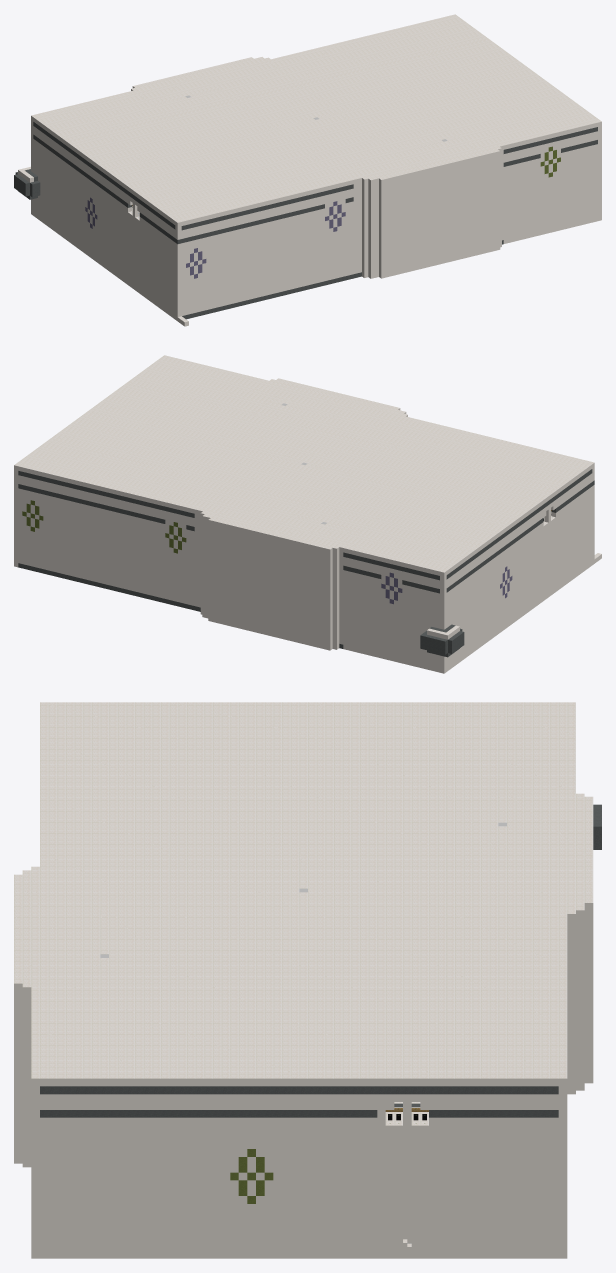
Rendered from minecraft.obj.
3 renders of one model, top to bottom at view 1: azimuth 30°, elevation 25°; view 2: azimuth 150°, elevation 25°; view 3: azimuth 270°, elevation 25°, orthographic. The views are drawn at different scales.
Size of the model in its own units: 106 by 24 by 68.
